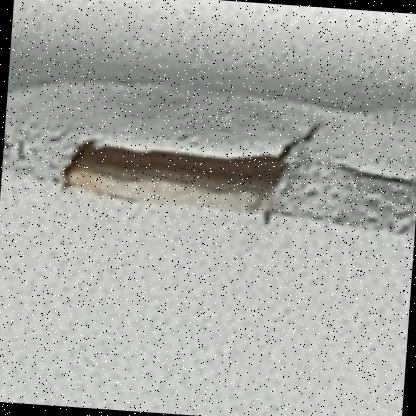Crack: (0, 57, 415, 266), (351, 9, 415, 37)
